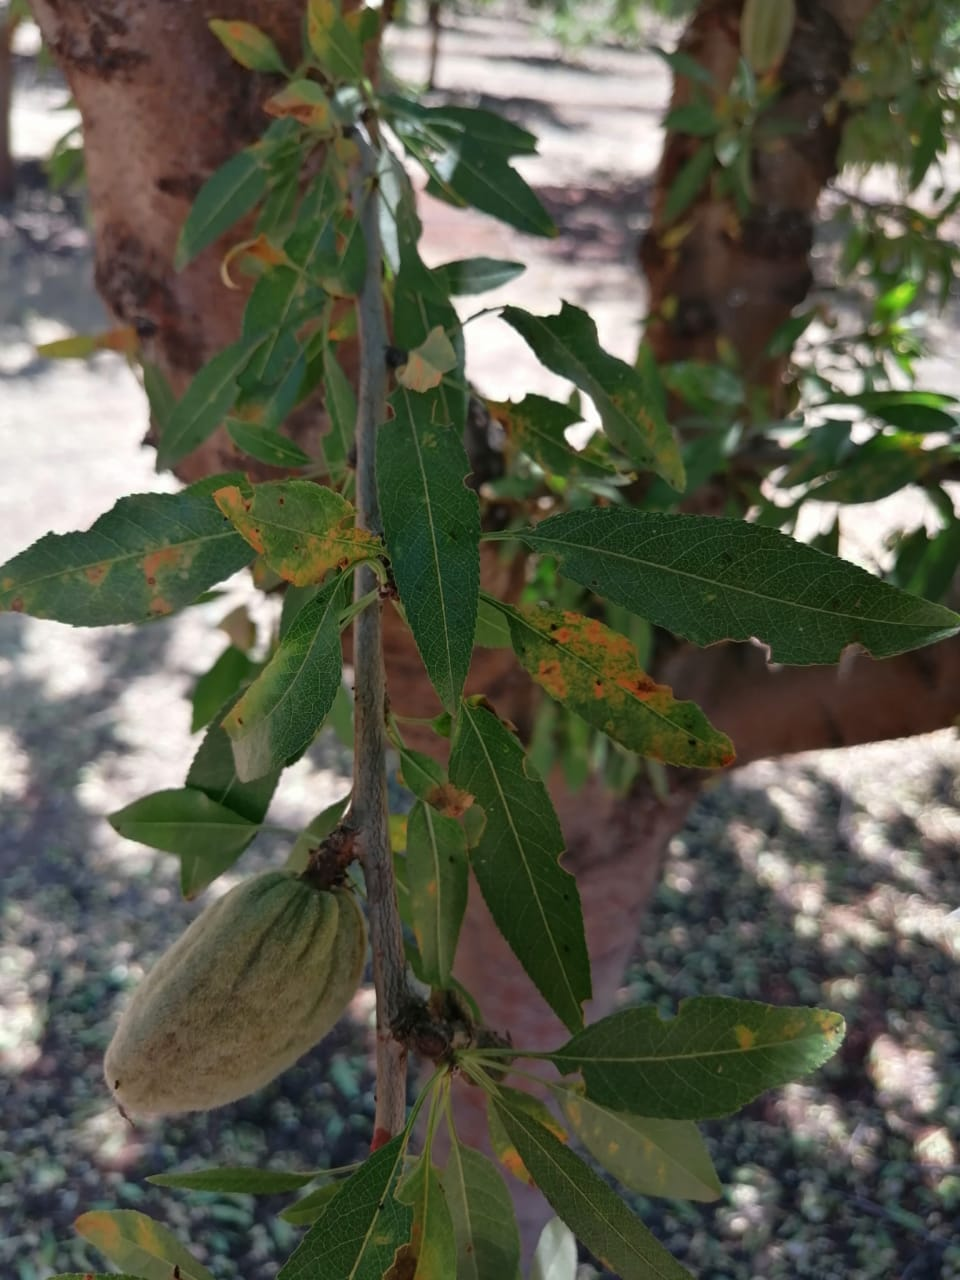polystigma: (501, 603, 738, 775), (551, 991, 848, 1127), (1, 492, 253, 627), (213, 477, 386, 587)
